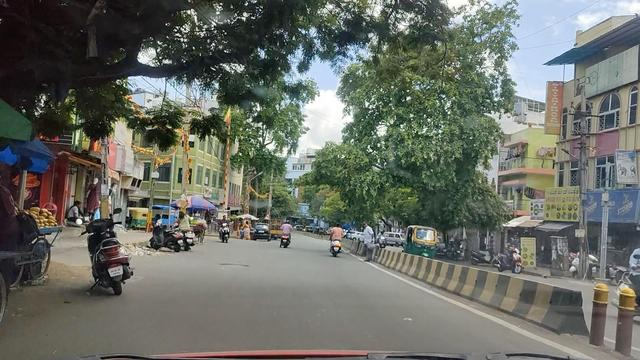LMV: (84, 217, 142, 299), (329, 224, 345, 254)
